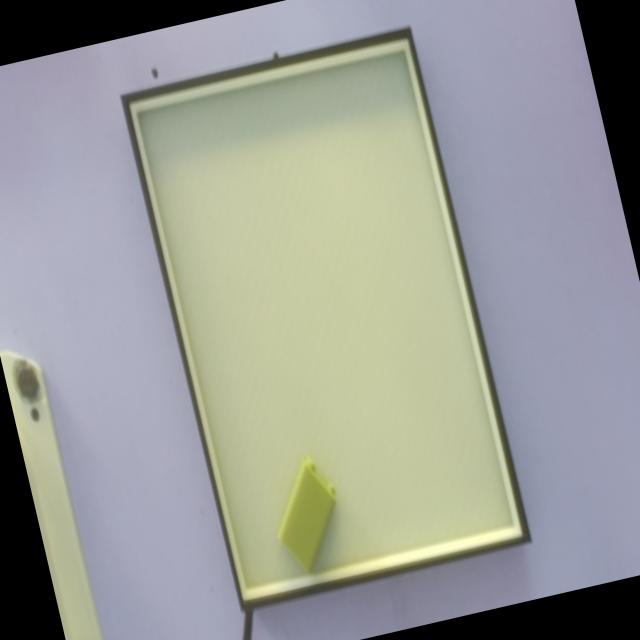bateria: (277, 456, 338, 577)
mesa: (120, 26, 531, 610)
